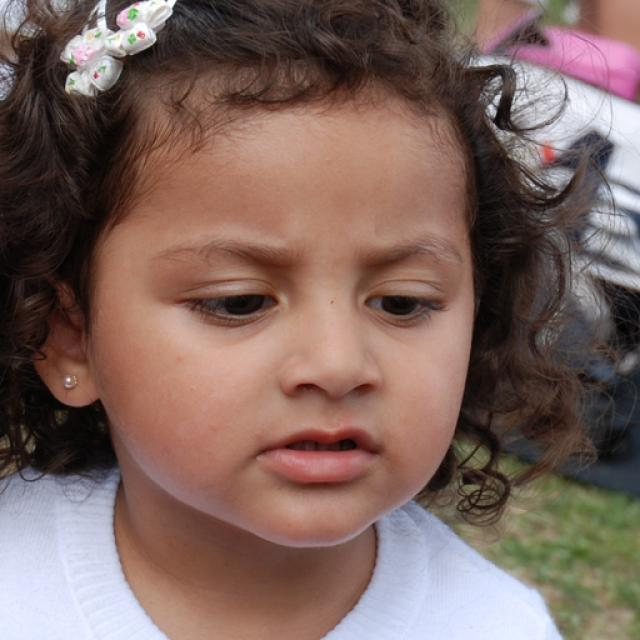sad: (111, 90, 475, 545)
